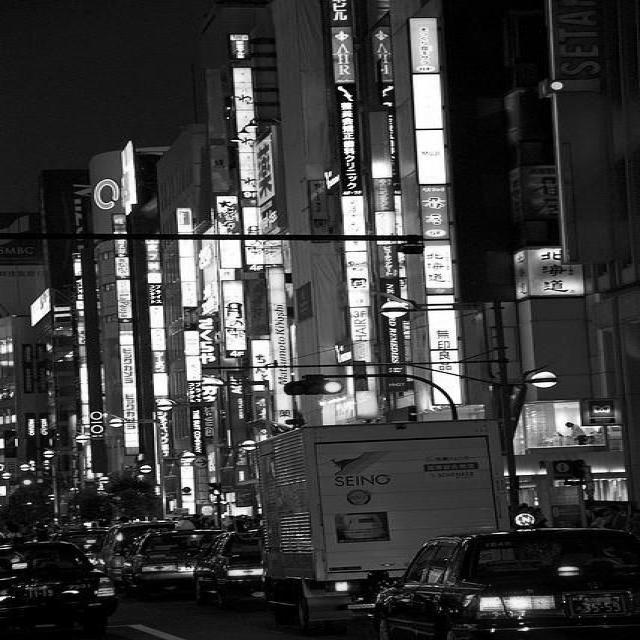vehicle: (260, 423, 514, 584), (371, 527, 639, 640), (0, 541, 117, 625), (120, 520, 224, 600), (196, 530, 264, 607), (100, 520, 177, 576), (49, 526, 111, 573)
